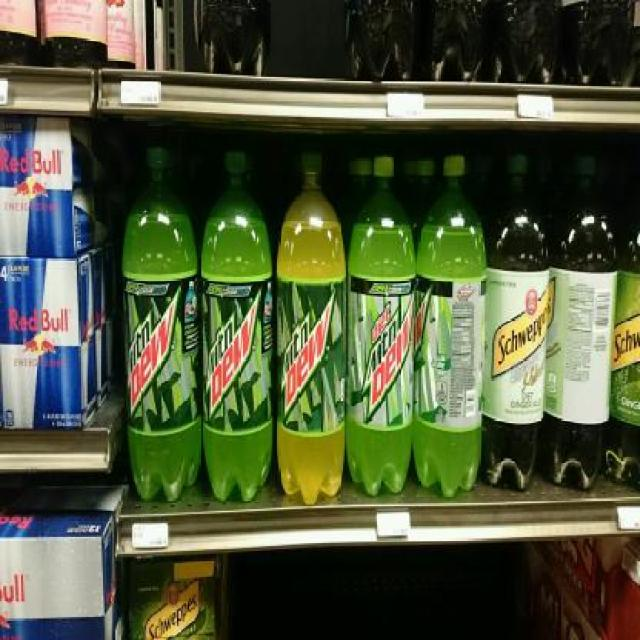Drinks: (122, 144, 200, 502), (199, 148, 273, 502), (276, 150, 346, 505), (416, 155, 487, 498), (348, 155, 415, 497)
